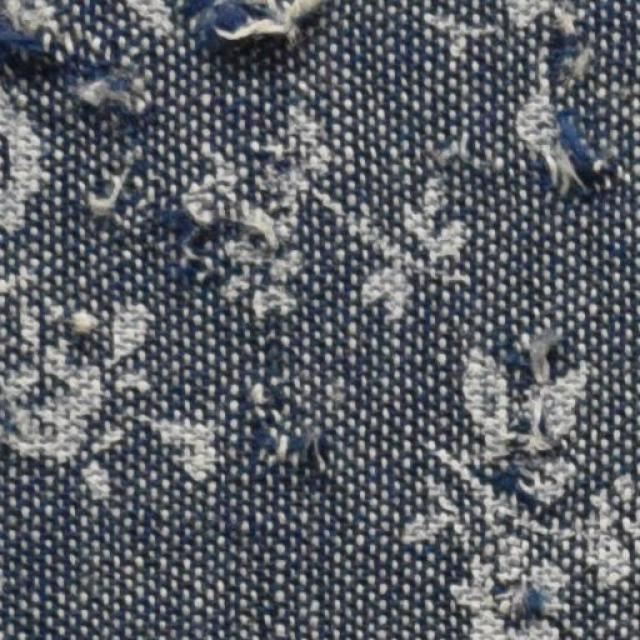Snag: (491, 26, 608, 201), (239, 369, 334, 487), (138, 176, 242, 283), (500, 407, 576, 511), (198, 0, 336, 56), (75, 48, 158, 131), (501, 552, 561, 631), (0, 18, 69, 79), (518, 318, 564, 387)
